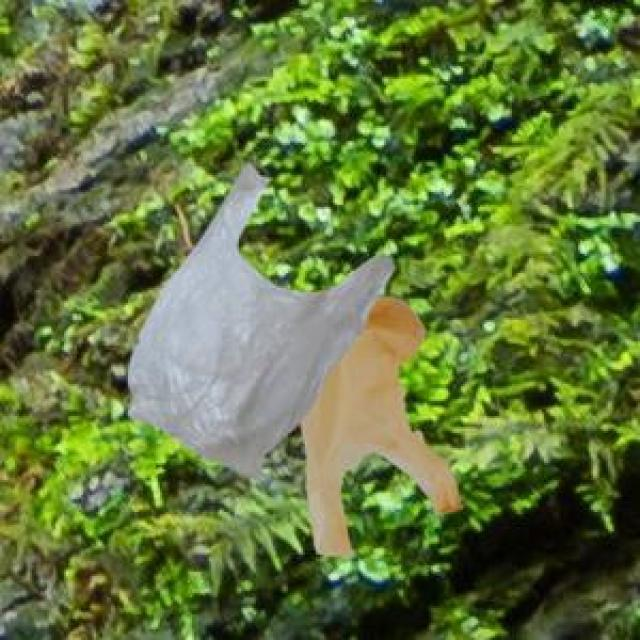waste: (129, 165, 461, 555)
